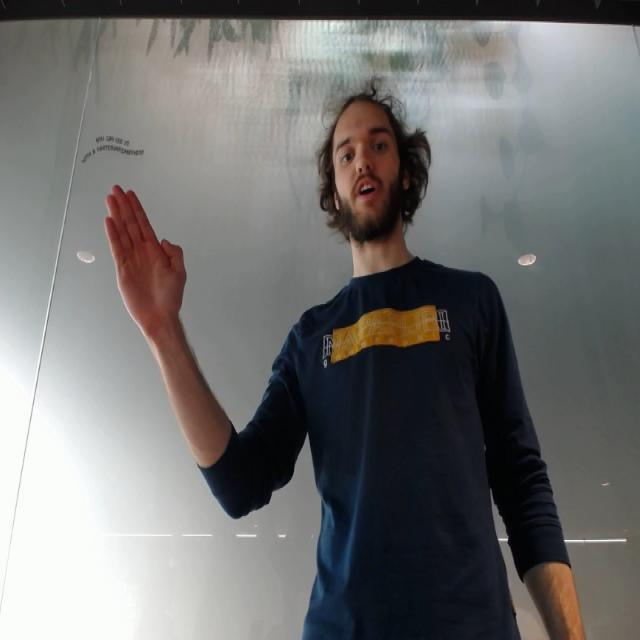backward: (91, 166, 192, 332)
